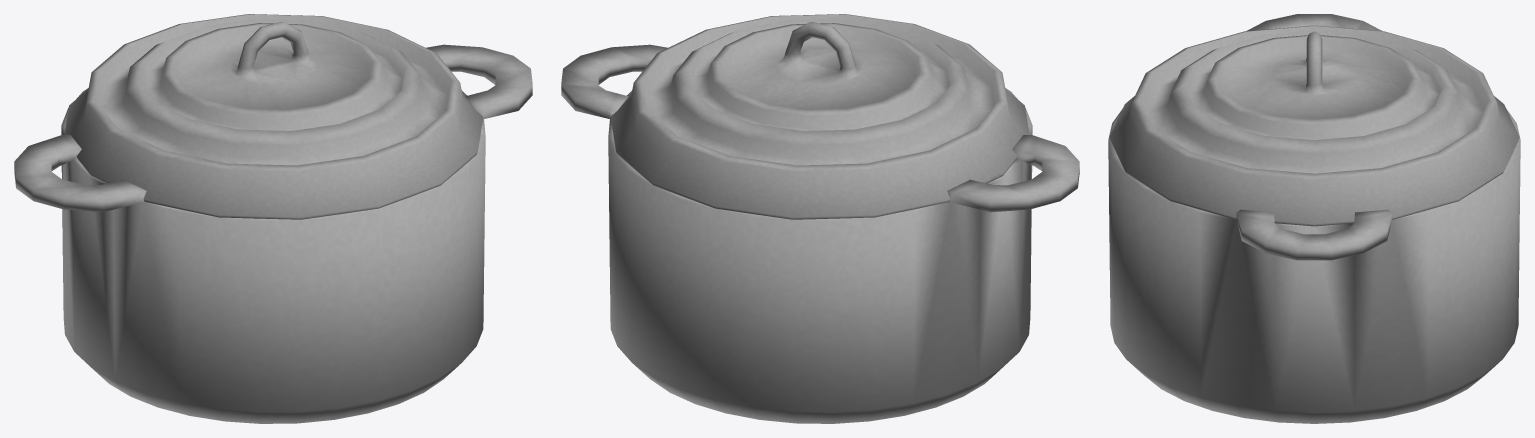
Rendered from cookingpot.glb.
The picture shows the model from 3 angles, left to right: view 1: azimuth 30°, elevation 25°; view 2: azimuth 150°, elevation 25°; view 3: azimuth 270°, elevation 25°; orthographic projection. The views are drawn at different scales.
Parts seen in each view (by area): view 1: cookingpot, cookingpot.003; view 2: cookingpot, cookingpot.003; view 3: cookingpot, cookingpot.003.
Boxes of the visible parts, x1,y1,x2,y2 form: cookingpot: [14, 44, 532, 423]; cookingpot.003: [64, 14, 483, 219]; cookingpot: [561, 44, 1079, 423]; cookingpot.003: [610, 14, 1029, 219]; cookingpot: [1108, 14, 1520, 423]; cookingpot.003: [1109, 25, 1519, 226].
Bounding box in the file's own units: 1.16 × 0.7125 × 0.8571.
1 material, 1 textured.
